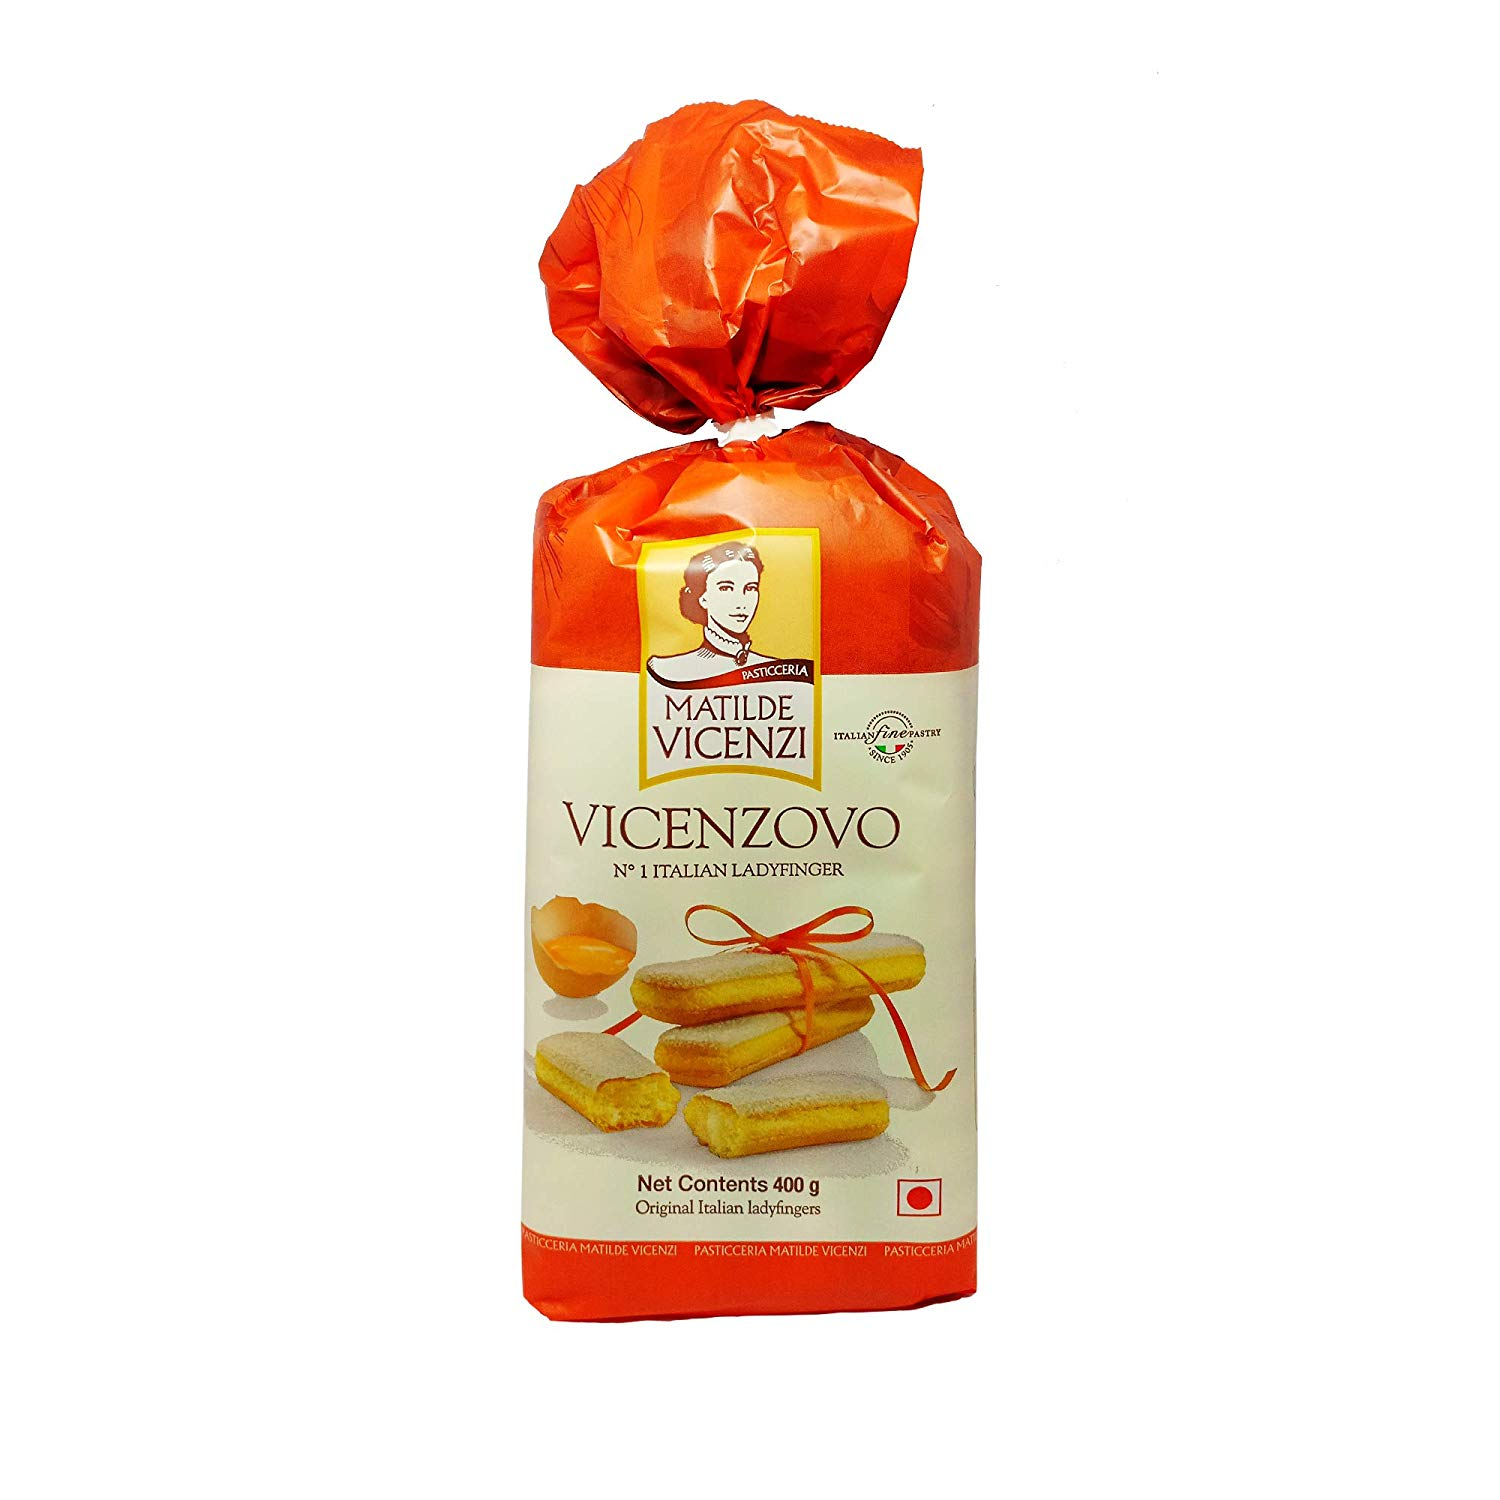nonveg_red: (896, 1177, 944, 1218)
